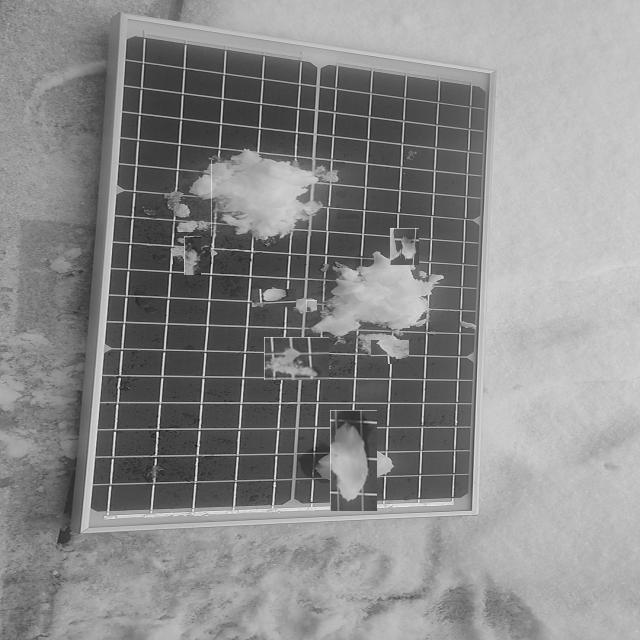faulty: (84, 14, 490, 530)
